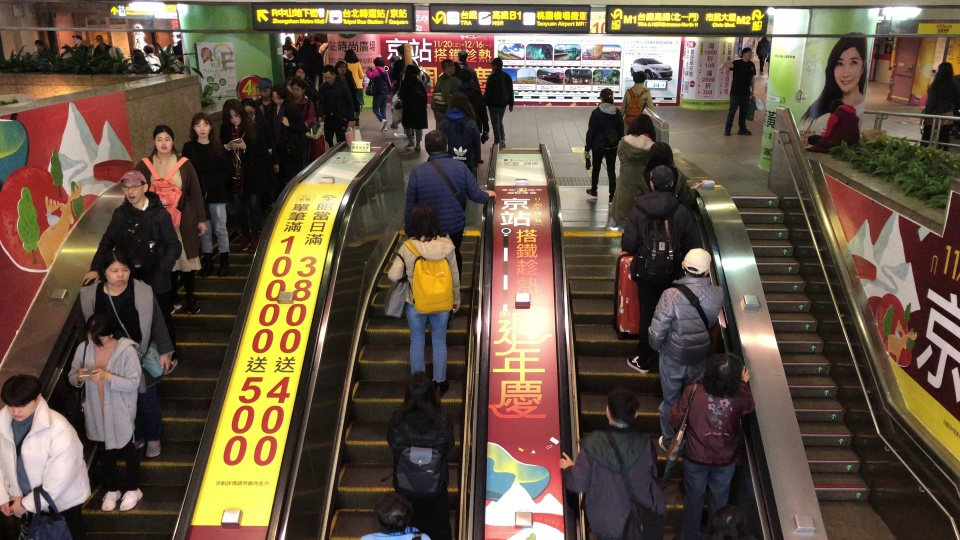person_head: (399, 372, 442, 424), (699, 352, 743, 397), (0, 375, 42, 422), (705, 502, 747, 540), (374, 492, 410, 533), (98, 249, 131, 289), (605, 392, 641, 427), (403, 204, 436, 239), (82, 314, 116, 346), (118, 170, 149, 204), (680, 247, 712, 278), (188, 112, 215, 144), (149, 124, 175, 156), (648, 166, 675, 193), (221, 99, 247, 127), (648, 143, 674, 171), (627, 114, 656, 139), (447, 89, 473, 115), (424, 129, 448, 155), (931, 62, 955, 85), (240, 98, 260, 120), (254, 77, 273, 99), (270, 85, 287, 105), (402, 63, 420, 79), (439, 57, 455, 75), (289, 78, 304, 97), (597, 89, 614, 105), (488, 56, 504, 72), (828, 99, 845, 114), (343, 49, 359, 64), (322, 64, 335, 82), (58, 45, 73, 60), (456, 75, 471, 89), (632, 70, 647, 84), (738, 47, 752, 62), (334, 60, 347, 74), (32, 39, 45, 51), (71, 33, 84, 45), (131, 47, 144, 59), (294, 65, 306, 78), (372, 56, 385, 68), (395, 43, 407, 56), (456, 51, 469, 62), (144, 44, 154, 55), (388, 56, 399, 66), (95, 35, 104, 46), (283, 36, 293, 45), (309, 43, 318, 51), (762, 33, 768, 40), (299, 33, 304, 38)
person_vbox: (82, 170, 183, 376), (80, 247, 175, 459), (559, 391, 665, 540), (648, 246, 725, 450), (619, 171, 696, 374), (67, 313, 145, 512), (667, 351, 751, 534), (0, 375, 92, 540), (406, 129, 497, 289), (386, 204, 462, 395), (132, 123, 207, 316), (383, 371, 466, 540), (180, 112, 232, 279), (220, 99, 265, 252), (608, 113, 655, 228), (584, 88, 626, 206), (239, 98, 281, 206), (443, 90, 482, 186), (635, 142, 699, 200), (715, 46, 755, 138), (359, 492, 432, 540), (918, 62, 956, 152), (395, 43, 431, 134), (483, 55, 516, 147), (269, 84, 300, 180), (805, 99, 861, 152), (454, 75, 490, 145), (401, 64, 429, 153), (317, 63, 347, 146), (619, 69, 655, 137), (364, 56, 392, 132), (430, 58, 460, 127), (341, 48, 365, 128), (334, 60, 360, 122), (289, 79, 316, 128), (253, 75, 273, 130), (389, 55, 403, 129), (294, 64, 318, 101), (454, 51, 479, 83), (754, 32, 771, 76), (307, 45, 323, 90), (93, 33, 114, 63), (71, 34, 91, 62), (30, 36, 52, 60), (143, 43, 161, 72), (130, 47, 148, 72), (282, 36, 297, 54), (295, 32, 307, 47)
